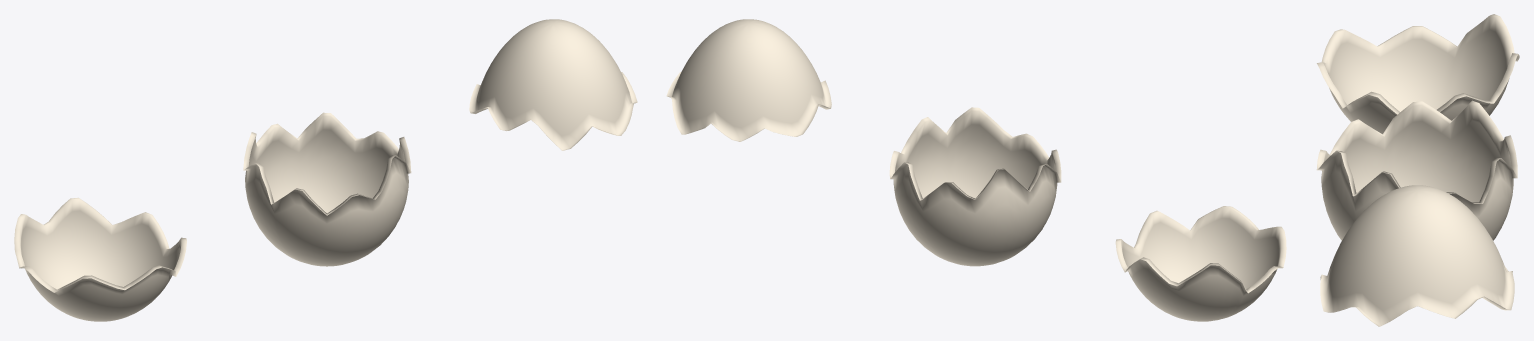
Rendered from EggShells.fbx.
The picture shows the model from 3 angles, left to right: view 1: azimuth 30°, elevation 25°; view 2: azimuth 150°, elevation 25°; view 3: azimuth 270°, elevation 25°; orthographic projection. The views are drawn at different scales.
Parts seen in each view (by area): view 1: EggShellA, EggShellC, EggShellB; view 2: EggShellA, EggShellB, EggShellC; view 3: EggShellB, EggShellA, EggShellC.
Boxes of the visible parts, x1,y1,x2,y2 form: EggShellA: (243,112,411,266); EggShellC: (14,197,186,321); EggShellB: (469,19,637,150); EggShellA: (889,107,1061,266); EggShellB: (666,19,831,141); EggShellC: (1115,206,1286,321); EggShellB: (1320,185,1514,326); EggShellA: (1316,100,1517,240); EggShellC: (1317,14,1519,133).
Size of the model in its own units: 790 by 240 by 200.
Materials: 1 (1 with a texture image).
